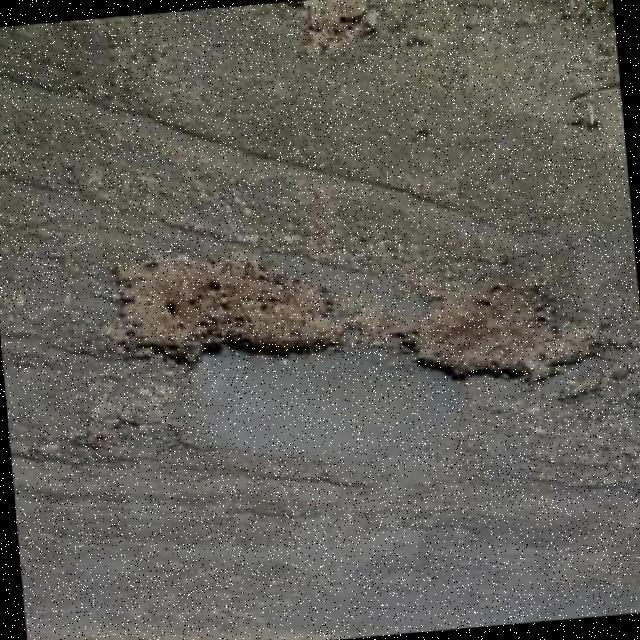Pothole: (114, 266, 602, 383)
